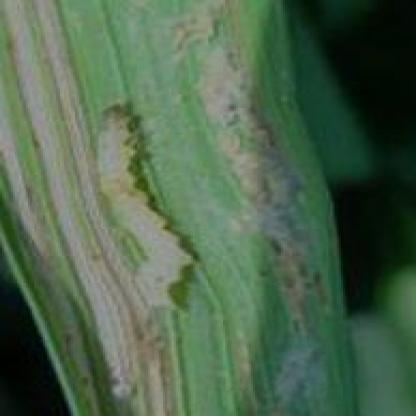leaf-folder: (49, 99, 229, 311)
